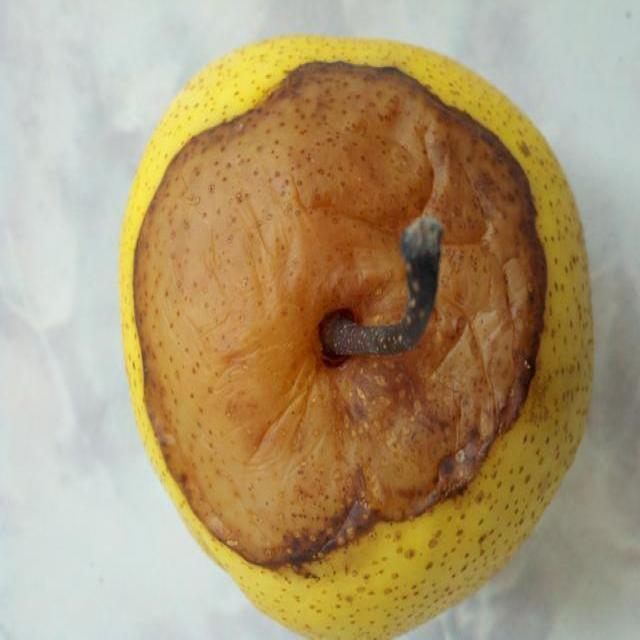organic: (118, 35, 598, 640)
